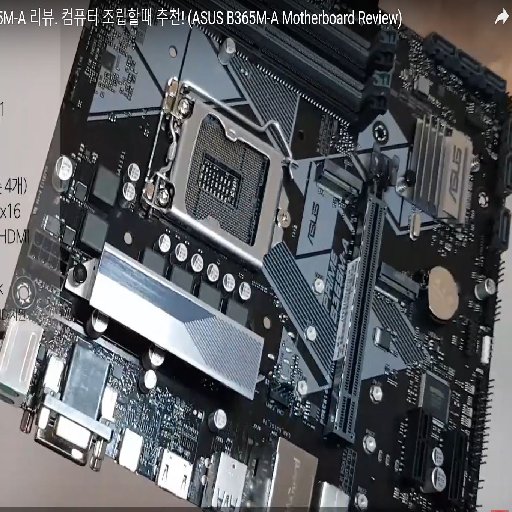CPU: (140, 79, 289, 277)
GPU: (325, 140, 401, 445)
MOTHERBOARD: (5, 3, 510, 510)
RAM: (148, 14, 404, 135)
SSD: (316, 159, 361, 202), (377, 261, 418, 304)
